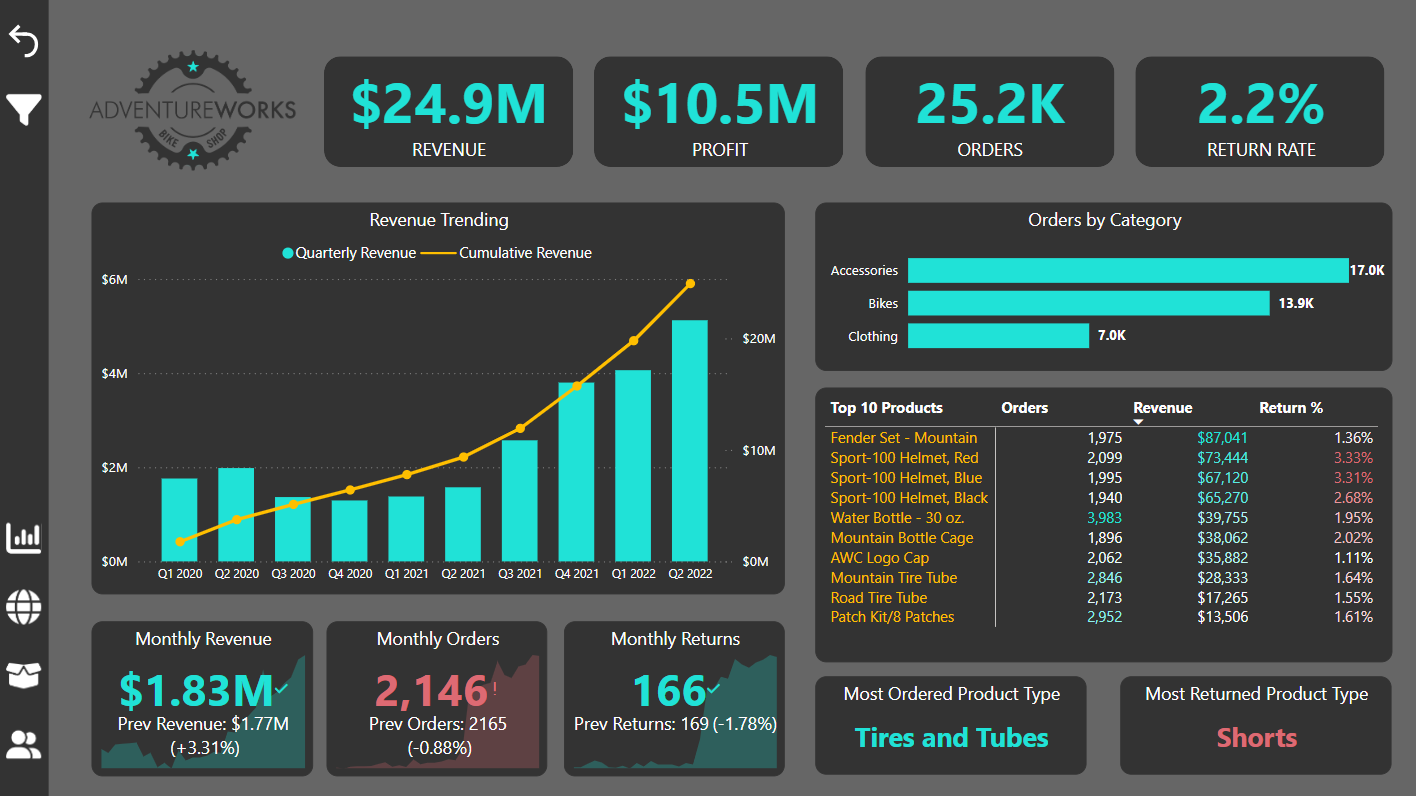

What the dashboard file says about the page in this screenshot:
{"tool":"powerbi","page":{"name":"Exec Dashboard","canvas":[1280,720],"ordinal":0},"visuals":[{"type":"image","title":"AW Logo","box":[56.2,0,237.5,198.8],"z":0},{"type":"card","title":"Revenue","fields":{"Values":["Measure Table.Total Revenue"]},"box":[287.1,36.9,237,126.3],"z":0,"group":"g2"},{"type":"group","id":"g1","title":"KPI Background","box":[293.3,50.8,957.5,100],"z":0,"group":"g3"},{"type":"shape","title":"Shape Revenue","box":[293.3,50.8,225,100],"z":0,"group":"g1"},{"type":"actionButton","title":"Button - Customer Detail","box":[0,652.1,44.5,39.7],"z":0,"group":"g4"},{"type":"shape","title":"Left Nav","box":[0,0,45,720],"z":1000},{"type":"group","id":"g2","title":"KPI values","box":[287.1,36.9,969.8,126.3],"z":1000,"group":"g3"},{"type":"card","title":"Profit","fields":{"Values":["Measure Table.Total Profit"]},"box":[531.4,36.9,237,126.3],"z":1000,"group":"g2"},{"type":"shape","title":"Shape Profit","box":[537.5,50.8,225,100],"z":1000,"group":"g1"},{"type":"actionButton","title":"Button - Product Detail","box":[0,589.9,44.5,39.7],"z":1000,"group":"g4"},{"type":"group","id":"g3","title":"KPIs","box":[287.1,36.9,970.5,126.4],"z":2000},{"type":"card","title":"Orders","fields":{"Values":["Measure Table.Total Orders"]},"box":[775.6,36.9,237,126.3],"z":2000,"group":"g2"},{"type":"shape","title":"Shape Orders","box":[781.6,50.8,225,100],"z":2000,"group":"g1"},{"type":"actionButton","title":"Button - Map","box":[0,527.8,44.5,39.7],"z":2000,"group":"g4"},{"type":"card","title":"Return Rate","fields":{"Values":["Measure Table.Return Rate"]},"box":[1019.9,36.9,237,126.3],"z":3000,"group":"g2"},{"type":"shape","title":"Shape Return Rate","box":[1025.8,50.8,225,100],"z":3000,"group":"g1"},{"type":"lineClusteredColumnComboChart","title":"Revenue Trending","fields":{"Y":["Measure Table.Total Revenue"],"Y2":["Measure Table.Total Revenue Running"],"Category":["Calendar Lookup.Quarter"]},"box":[83,182.9,625.7,353.7],"z":3000},{"type":"actionButton","title":"Button - Executive Dashboard","box":[0,465.6,44.5,39.7],"z":3000,"group":"g4"},{"type":"actionButton","title":"Button - Show slicer pane","box":[0,79.3,44.7,40.4],"z":4000,"group":"g4"},{"type":"kpi","title":"Monthly Revenue","fields":{"Indicator":["Measure Table.Total Revenue"],"TrendLine":["Calendar Lookup.Start of Month"],"Goal":["Measure Table.Previous Month Revenue"]},"box":[83.1,560.4,200,140.1],"z":4000},{"type":"actionButton","title":"Button - Reset Page Filters","box":[0,16.8,44.5,39.7],"z":5000,"group":"g4"},{"type":"kpi","title":"Monthly Orders","fields":{"TrendLine":["Calendar Lookup.Start of Month"],"Indicator":["Measure Table.Total Orders"],"Goal":["Measure Table.Previous Month Orders"]},"box":[295.7,560.4,199.5,140.1],"z":5000},{"type":"kpi","title":"Monthly Returns","fields":{"TrendLine":["Calendar Lookup.Start of Month"],"Indicator":["Measure Table.Total Returns"],"Goal":["Measure Table.Previous Month Returns"]},"box":[509.4,560.4,199.5,140.1],"z":6000},{"type":"clusteredBarChart","title":"Orders by Category","fields":{"Category":["Product Categories Lookup.CategoryName"],"Y":["Measure Table.Total Orders"]},"box":[736.4,182.9,521,151.6],"z":7000},{"type":"pivotTable","title":"Top Products","fields":{"Rows":["Product Lookup.ProductName"],"Values":["Measure Table.Total Orders","Measure Table.Total Revenue","Measure Table.Return Rate"]},"box":[736.4,350.1,521,247.9],"z":8000},{"type":"card","title":"Most Ordered Product Type","fields":{"Values":["Min(Product Subcategories Lookup.SubcategoryName)"]},"box":[736.2,610.3,244.6,89.1],"z":9000},{"type":"card","title":"Most Returned Product Type","fields":{"Values":["Min(Product Subcategories Lookup.SubcategoryName)"]},"box":[1011.6,610.3,244.6,89.1],"z":10000},{"type":"group","id":"g4","title":"Navigation Pane Buttons","box":[0,16.8,44.7,675],"z":10500}]}

Visuals, with their boxes on the page's 1280x720 design canvas (x1, y1, x2, y2). These are canvas units, not pixel positions in the 1416x796 screenshot, which may show the page scaled, cropped or inside an application window:
"AW Logo" image: BBox(56, 0, 294, 199)
"Revenue" card: BBox(287, 37, 524, 163)
"KPI Background" group: BBox(293, 51, 1251, 151)
"Shape Revenue" shape: BBox(293, 51, 518, 151)
"Button - Customer Detail" actionButton: BBox(0, 652, 44, 692)
"Left Nav" shape: BBox(0, 0, 45, 720)
"KPI values" group: BBox(287, 37, 1257, 163)
"Profit" card: BBox(531, 37, 768, 163)
"Shape Profit" shape: BBox(538, 51, 762, 151)
"Button - Product Detail" actionButton: BBox(0, 590, 44, 630)
"KPIs" group: BBox(287, 37, 1258, 163)
"Orders" card: BBox(776, 37, 1013, 163)
"Shape Orders" shape: BBox(782, 51, 1007, 151)
"Button - Map" actionButton: BBox(0, 528, 44, 568)
"Return Rate" card: BBox(1020, 37, 1257, 163)
"Shape Return Rate" shape: BBox(1026, 51, 1251, 151)
"Revenue Trending" lineClusteredColumnComboChart: BBox(83, 183, 709, 537)
"Button - Executive Dashboard" actionButton: BBox(0, 466, 44, 505)
"Button - Show slicer pane" actionButton: BBox(0, 79, 45, 120)
"Monthly Revenue" kpi: BBox(83, 560, 283, 700)
"Button - Reset Page Filters" actionButton: BBox(0, 17, 44, 56)
"Monthly Orders" kpi: BBox(296, 560, 495, 700)
"Monthly Returns" kpi: BBox(509, 560, 709, 700)
"Orders by Category" clusteredBarChart: BBox(736, 183, 1257, 334)
"Top Products" pivotTable: BBox(736, 350, 1257, 598)
"Most Ordered Product Type" card: BBox(736, 610, 981, 699)
"Most Returned Product Type" card: BBox(1012, 610, 1256, 699)
"Navigation Pane Buttons" group: BBox(0, 17, 45, 692)
